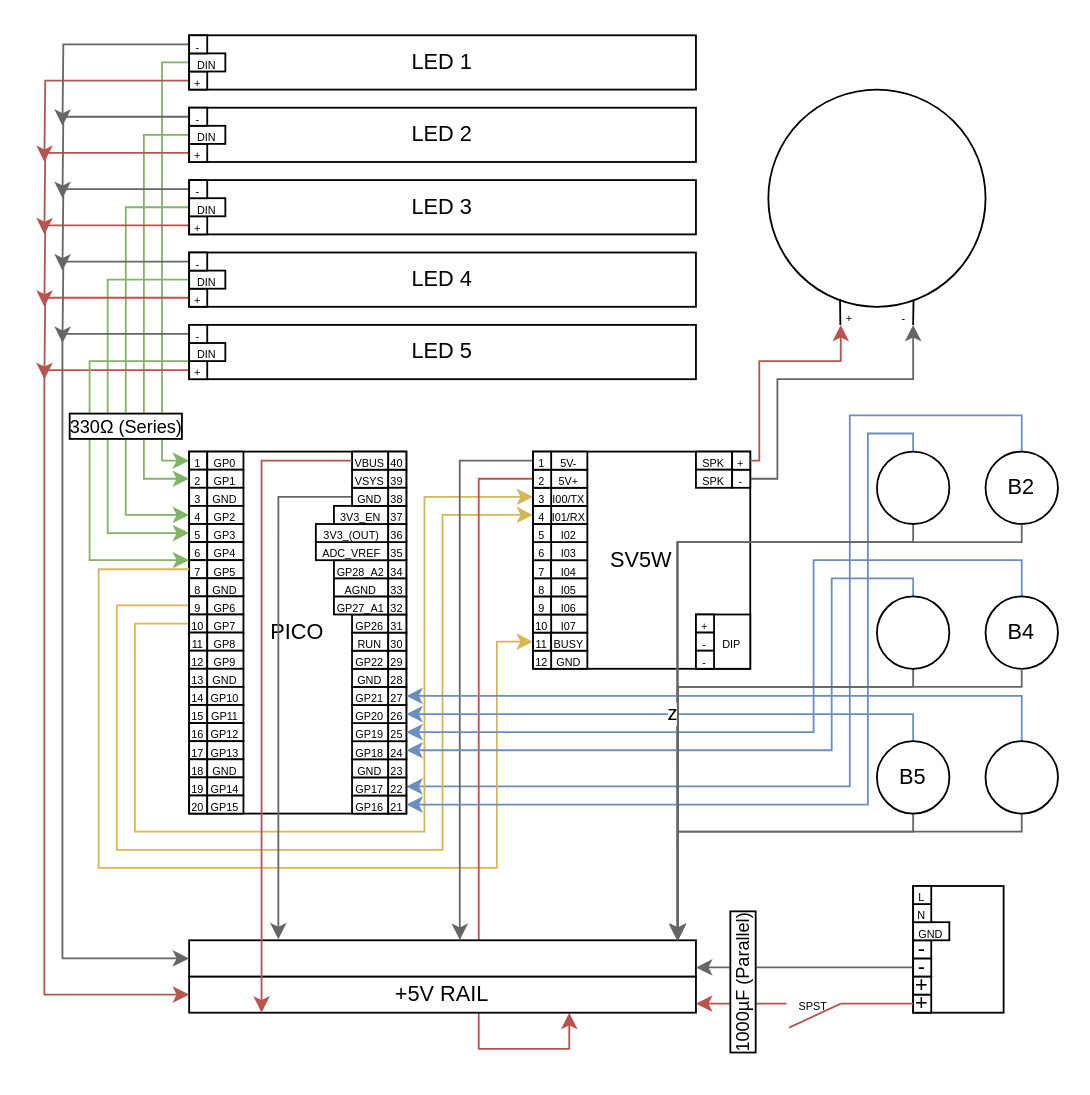
Some shapes in this 1090 by 1095 pixel diagram are drawn without their labels. Each missing label, with the box of its shape:
B1: (875, 450, 949, 524)
B3: (875, 595, 949, 669)
B6: (984, 739, 1058, 814)
GND RAIL: (187, 938, 696, 976)
PSU: (911, 884, 1004, 1013)
SPKR: (767, 88, 986, 307)
